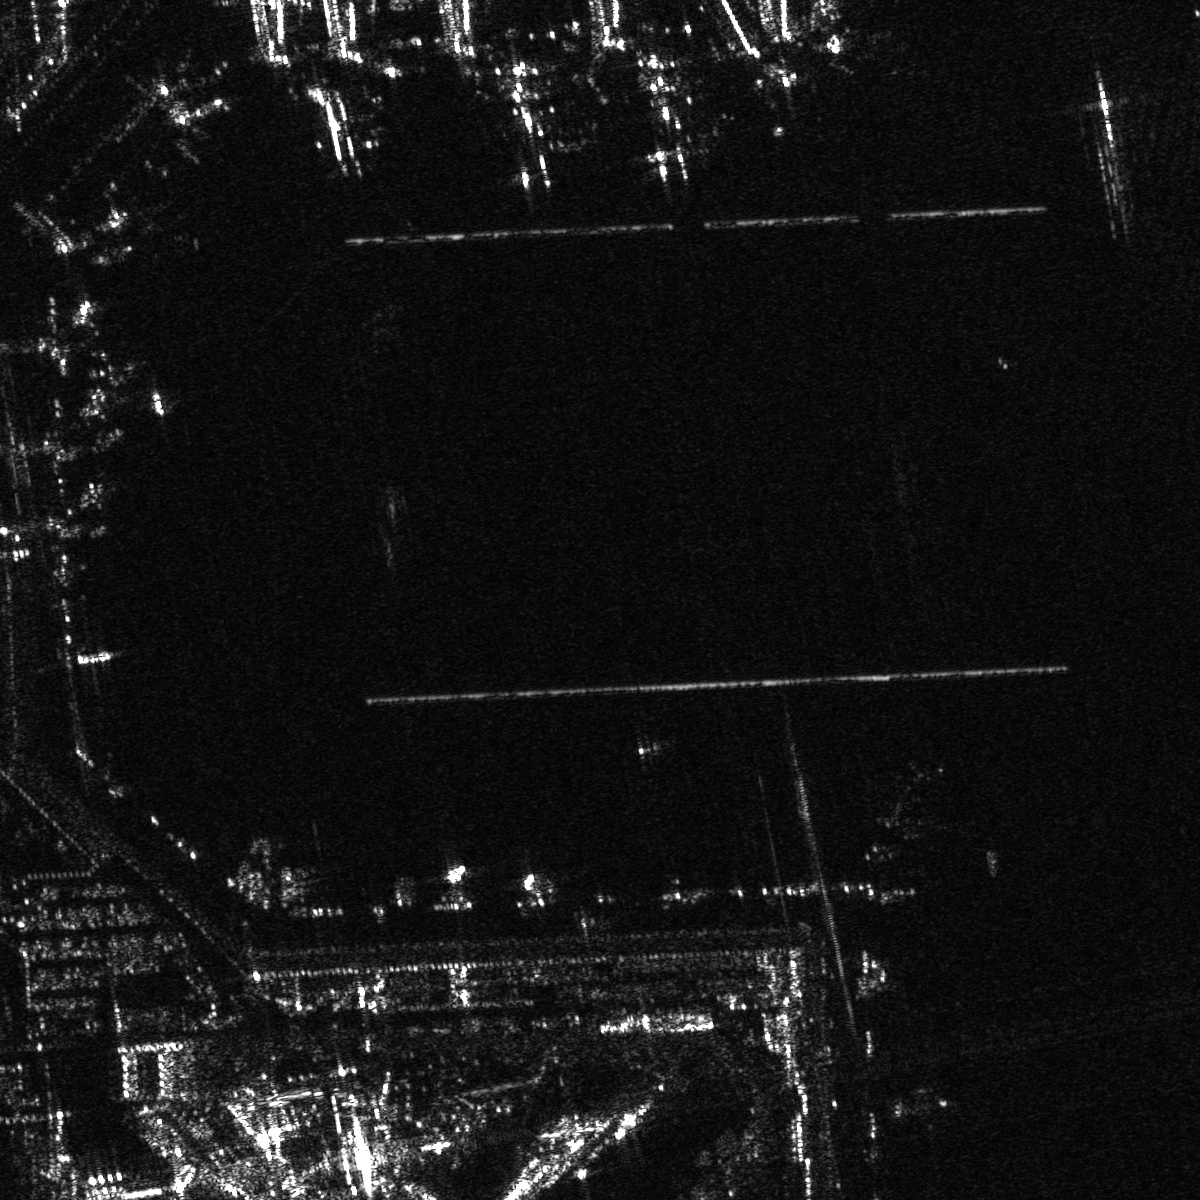A320/321: (844, 758, 940, 870)
Boeing737: (305, 80, 384, 179), (753, 64, 816, 122)
Boeing787: (496, 77, 574, 192)
other: (621, 73, 712, 184)
